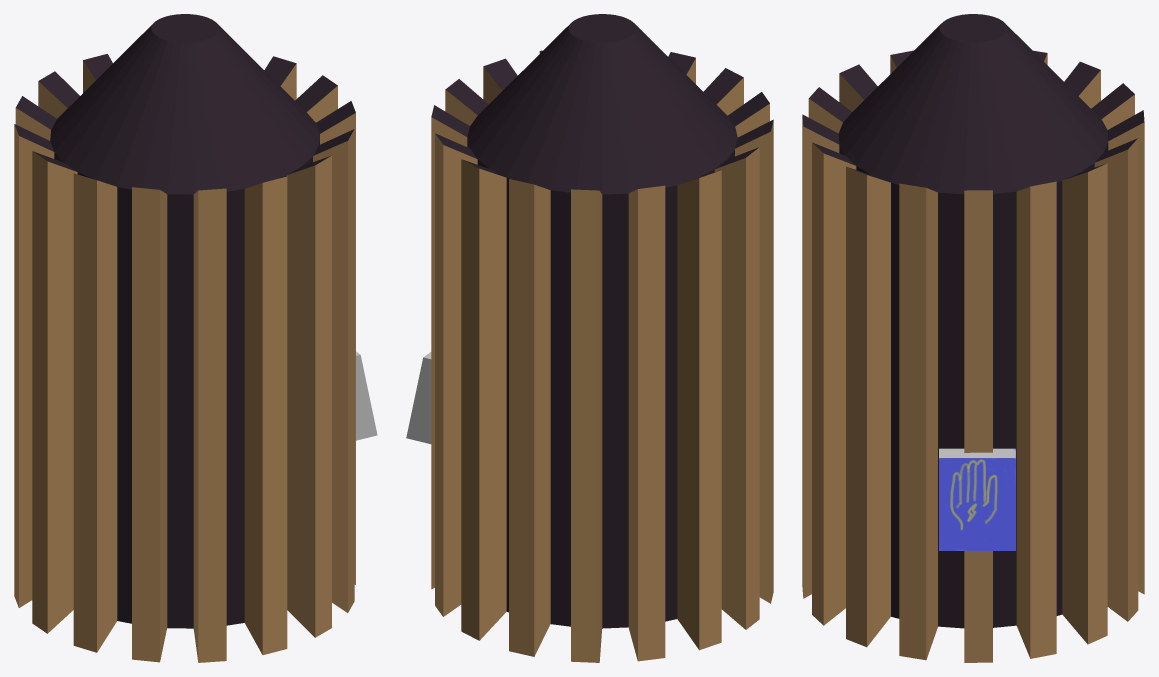
Rendered from kapine.fbx.
3 renders of one model, left to right at view 1: azimuth 30°, elevation 25°; view 2: azimuth 150°, elevation 25°; view 3: azimuth 270°, elevation 25°, orthographic.
Visible parts, largest first — view 1: Cylinder; view 2: Cylinder; view 3: Cylinder.
Boxes of the visible parts, x1=… form: Cylinder: x1=14, y1=14, x2=377, y2=662; Cylinder: x1=406, y1=14, x2=773, y2=662; Cylinder: x1=802, y1=14, x2=1144, y2=662.
Size of the model in its own units: 182 by 302 by 167.
Materials: 2 (2 with a texture image).
